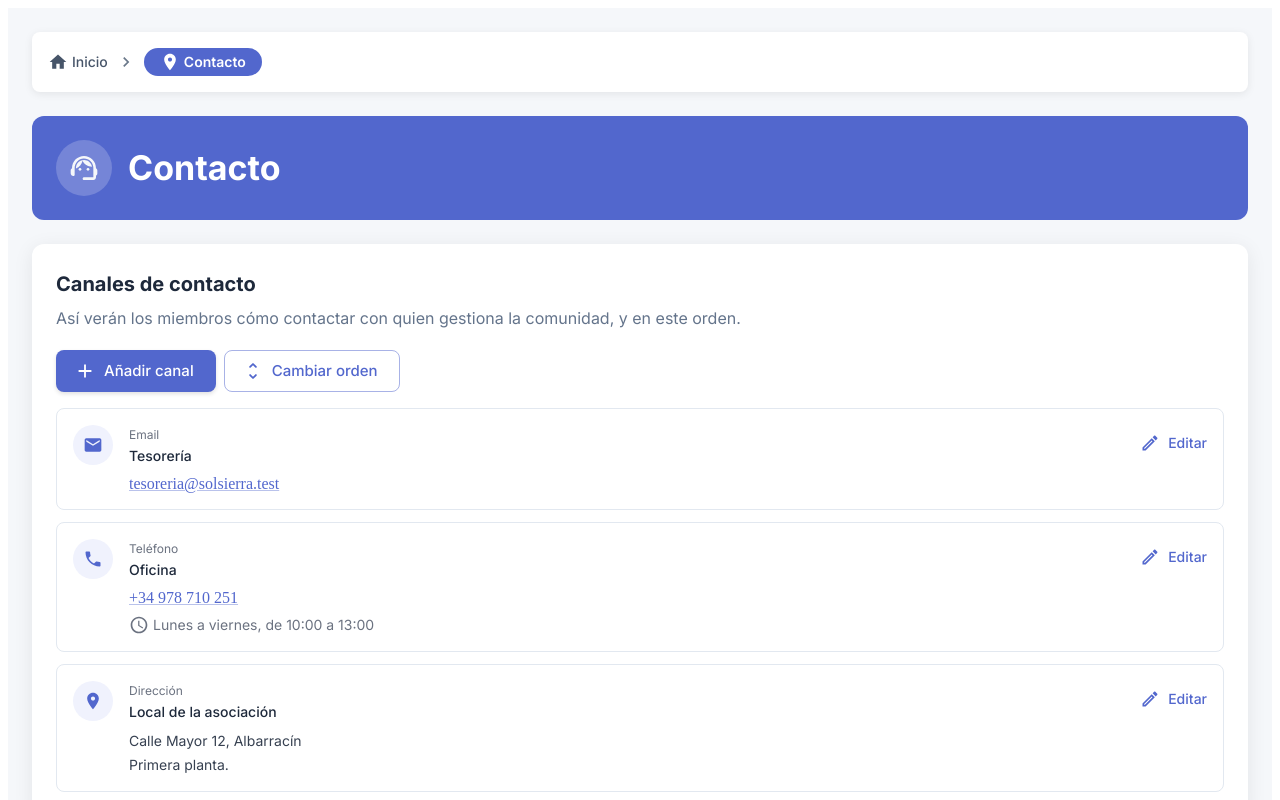
Test: editing a channel › AC10 AC15 closing an untouched sheet sends nothing and returns focus to its Editar
What coordinates should you click on to do the following:
click the button "Editar" in the row of "Local de la asociación"
I would click on:
 (1176, 699)
Its box is [1136,677,1215,721].
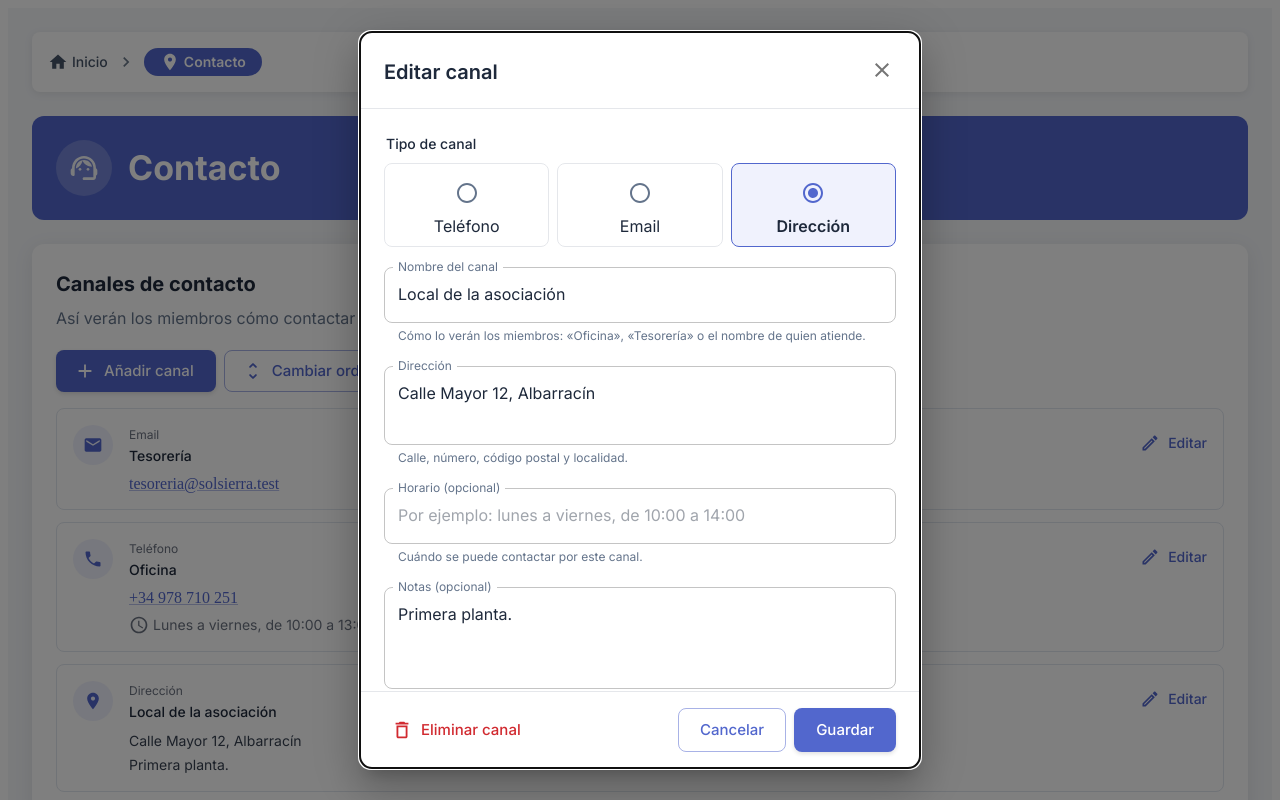
What coordinates should you click on to do the following:
click the button "Cancelar"
I would click on:
 (732, 730)
Its box is [678,708,786,752].
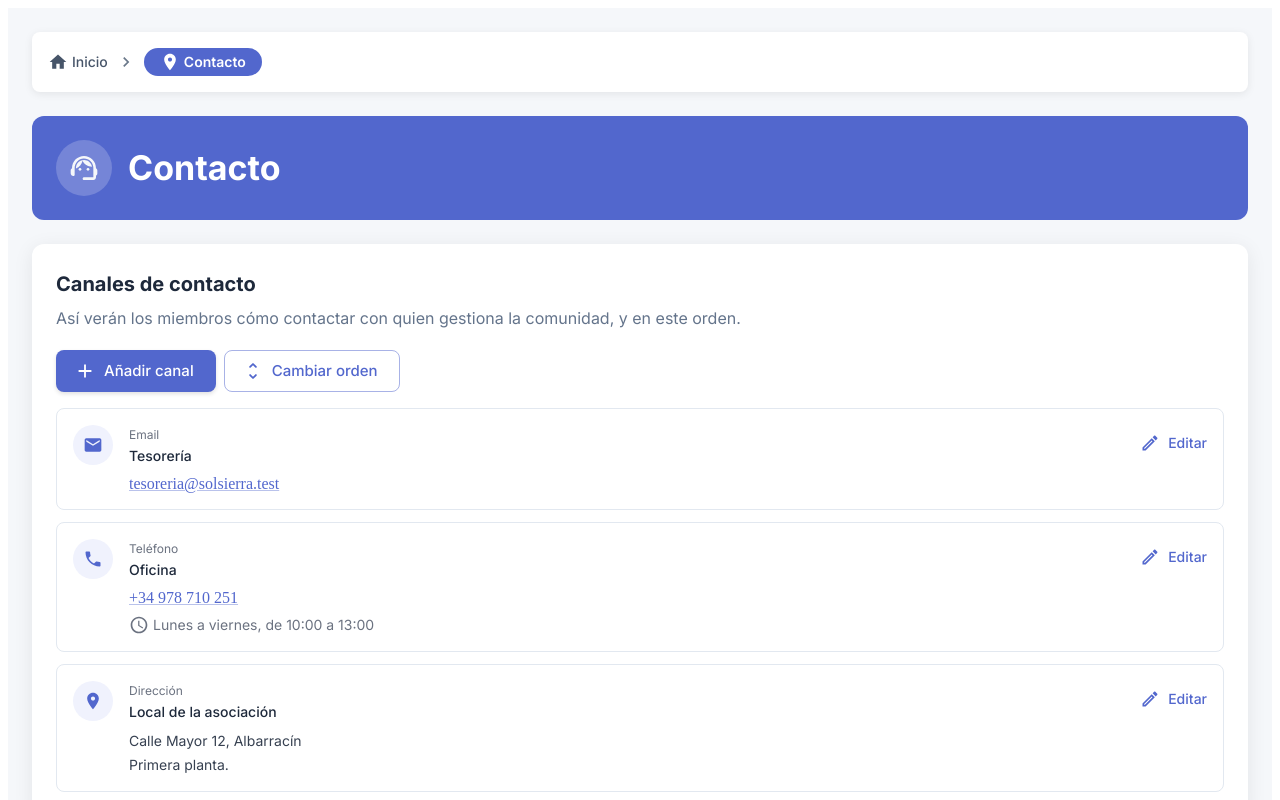
Check: the dialog is gone
